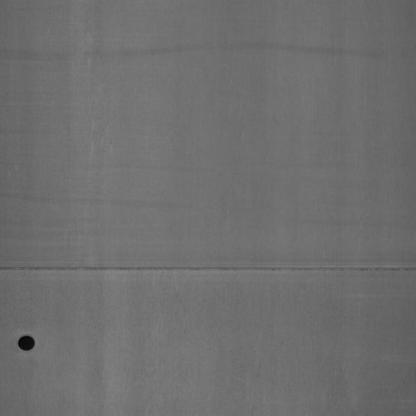punching_hole: (15, 332, 38, 358)
welding_line: (1, 256, 414, 280)
